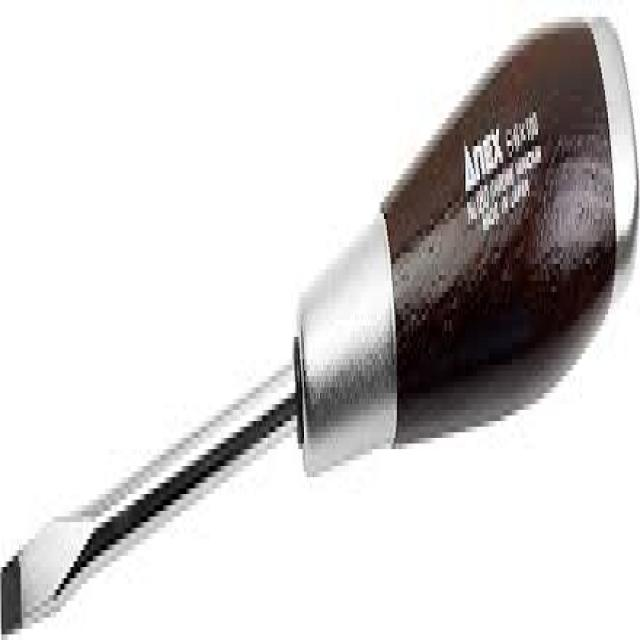screw driver: (2, 33, 640, 640)
